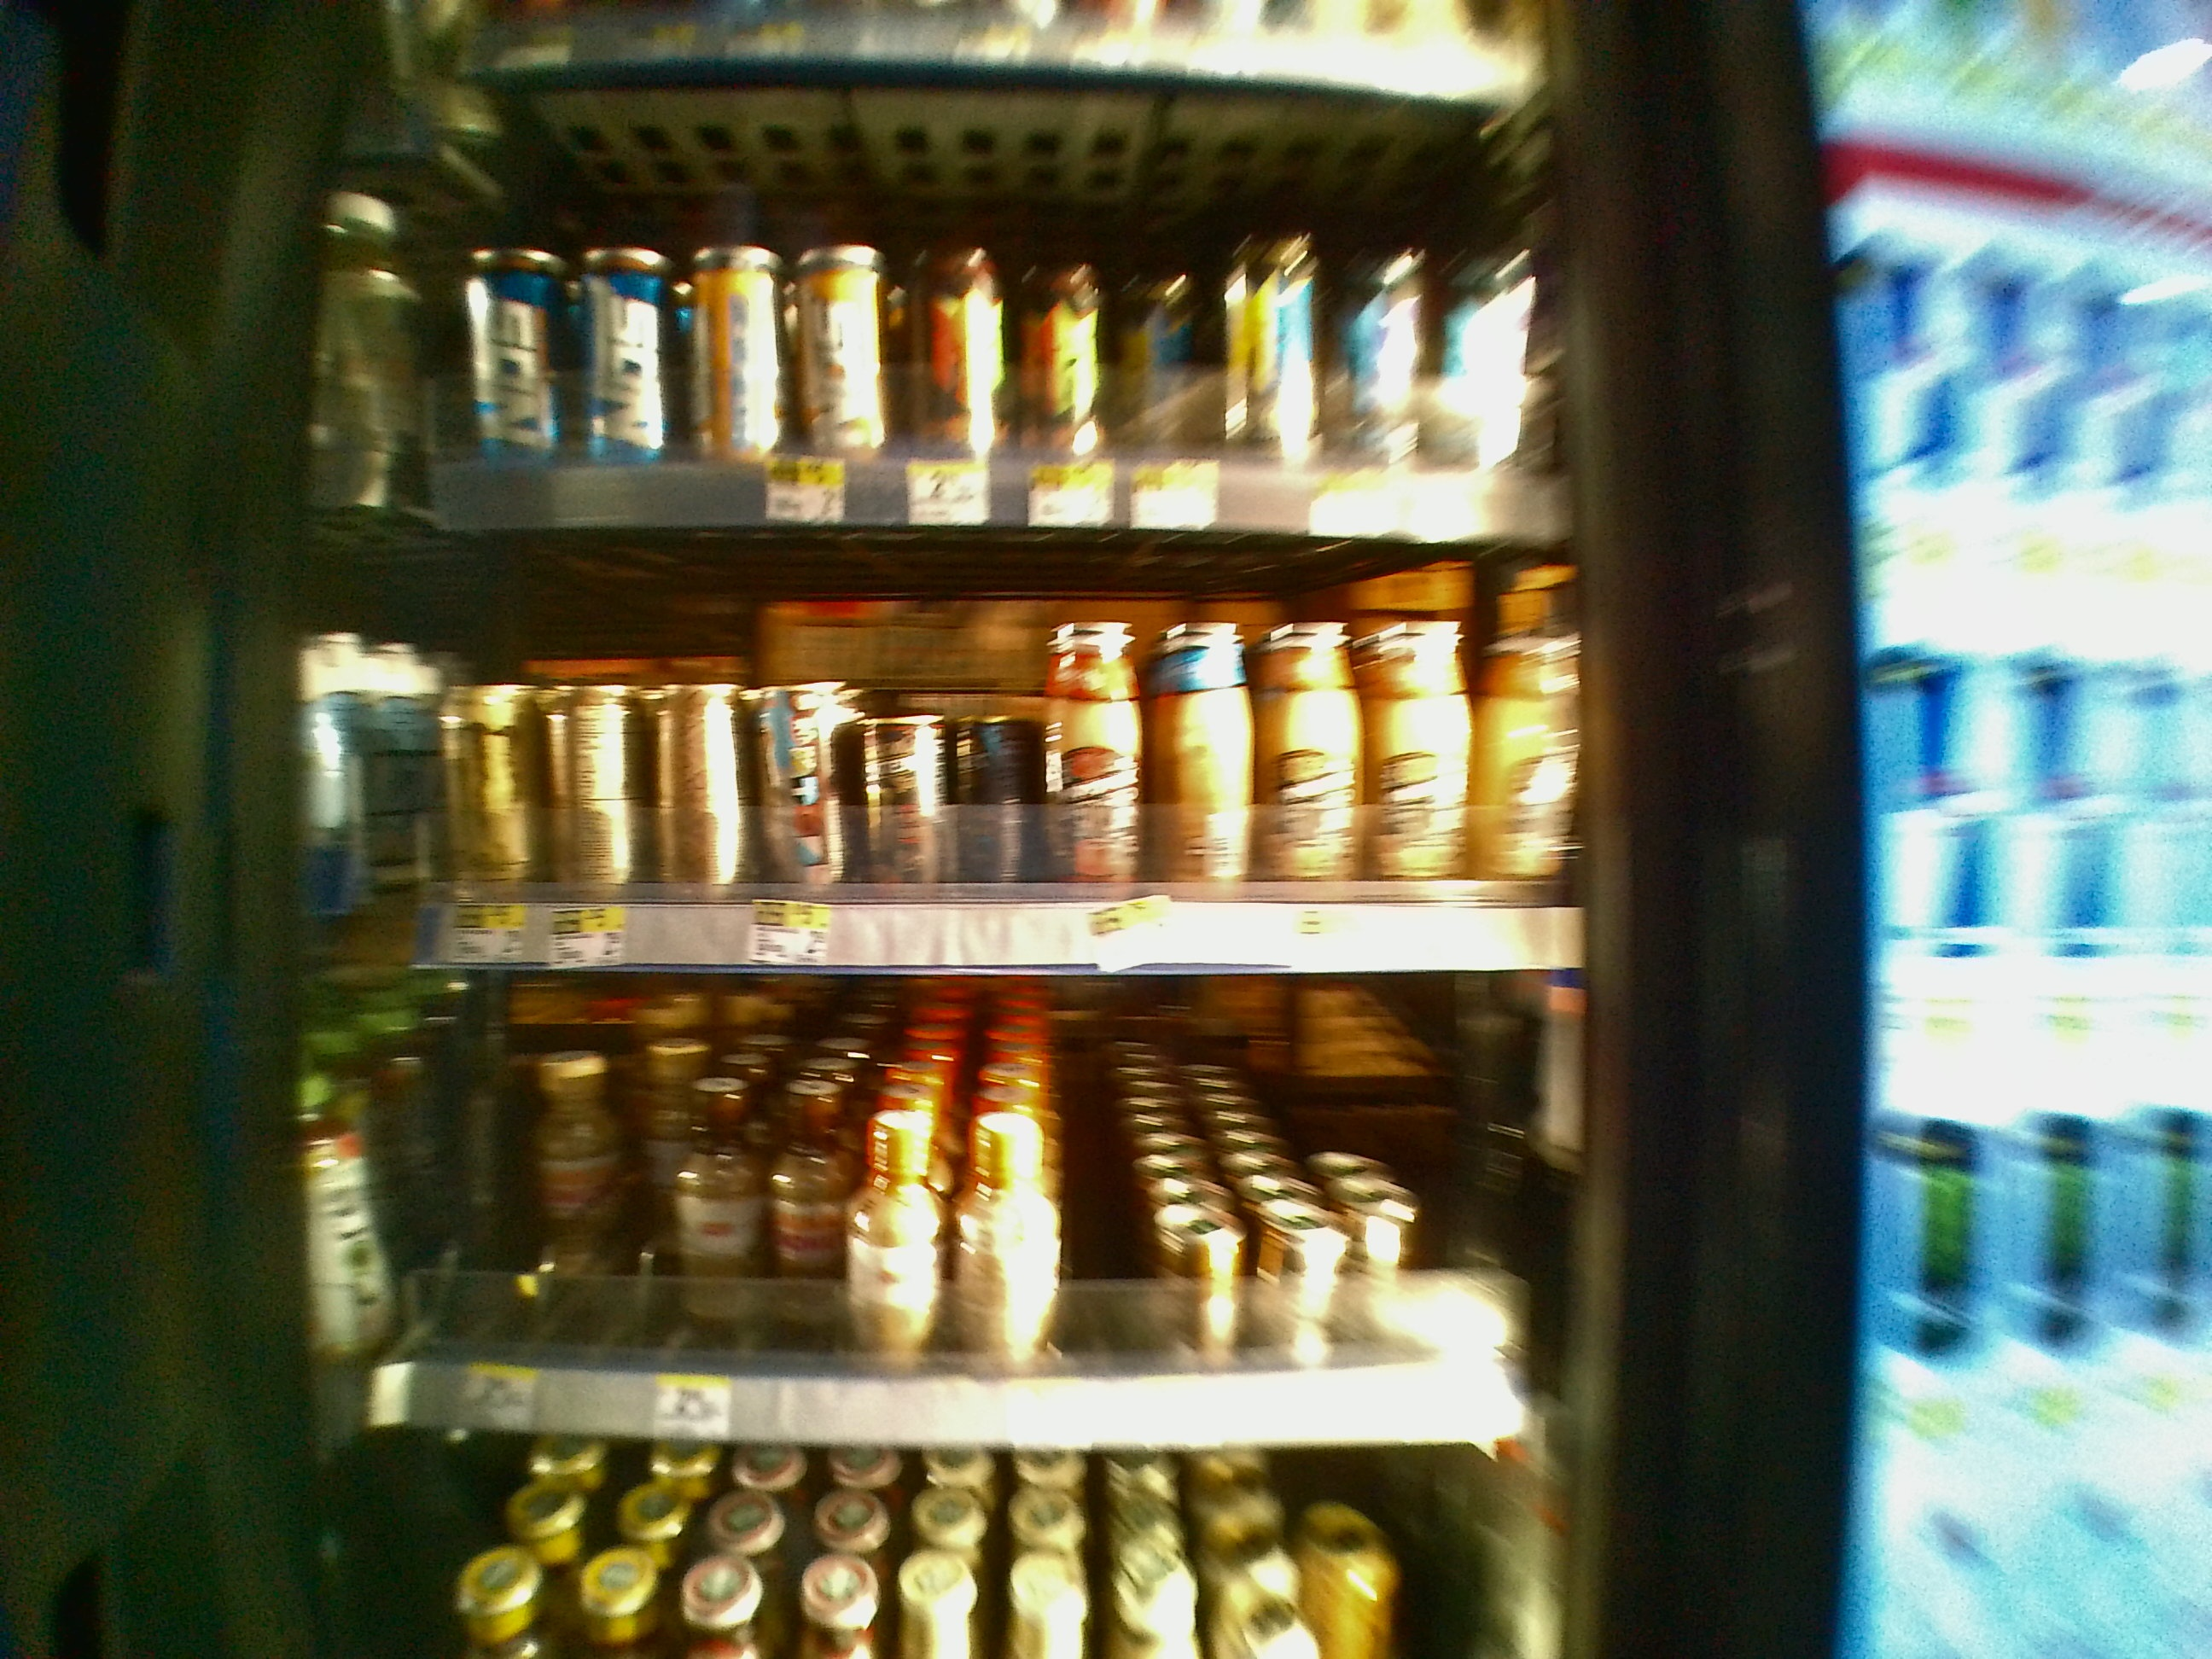shelf: (296, 974, 1602, 1441), (291, 530, 1601, 972)
